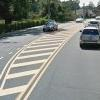Car: (76, 19, 100, 55)
